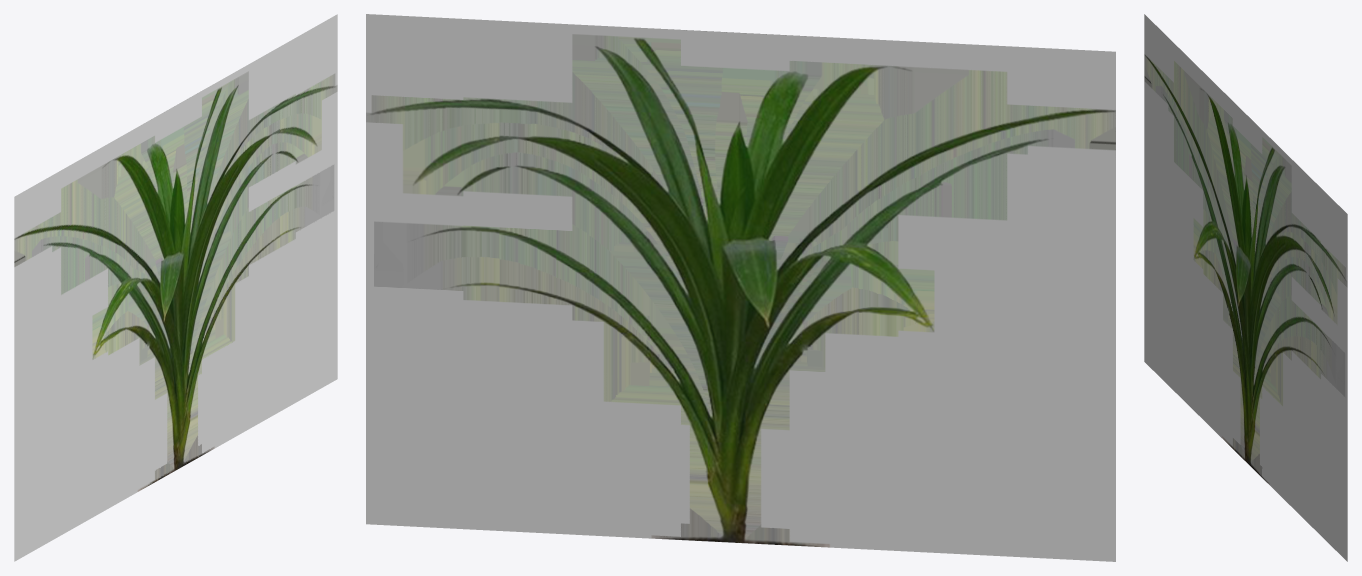
The picture shows the model from 3 angles, left to right: view 1: azimuth 30°, elevation 25°; view 2: azimuth 150°, elevation 25°; view 3: azimuth 270°, elevation 25°; orthographic projection. The views are drawn at different scales.
Parts seen in each view (by area): view 1: image_0; view 2: image_0; view 3: image_0.
Part boxes in pixels (x1=…): image_0: x1=14, y1=14, x2=337, y2=561; image_0: x1=366, y1=14, x2=1115, y2=561; image_0: x1=1144, y1=14, x2=1347, y2=561.
Bounding box in the file's own units: 29.46 × 12.63 × 23.9.
